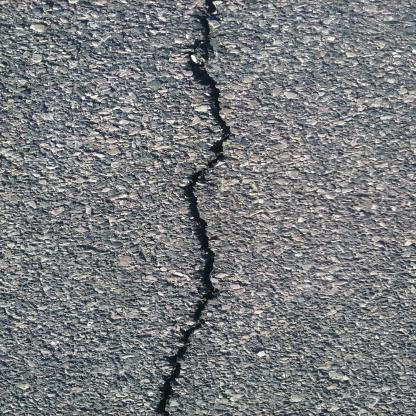Cracks: (142, 1, 239, 416)
